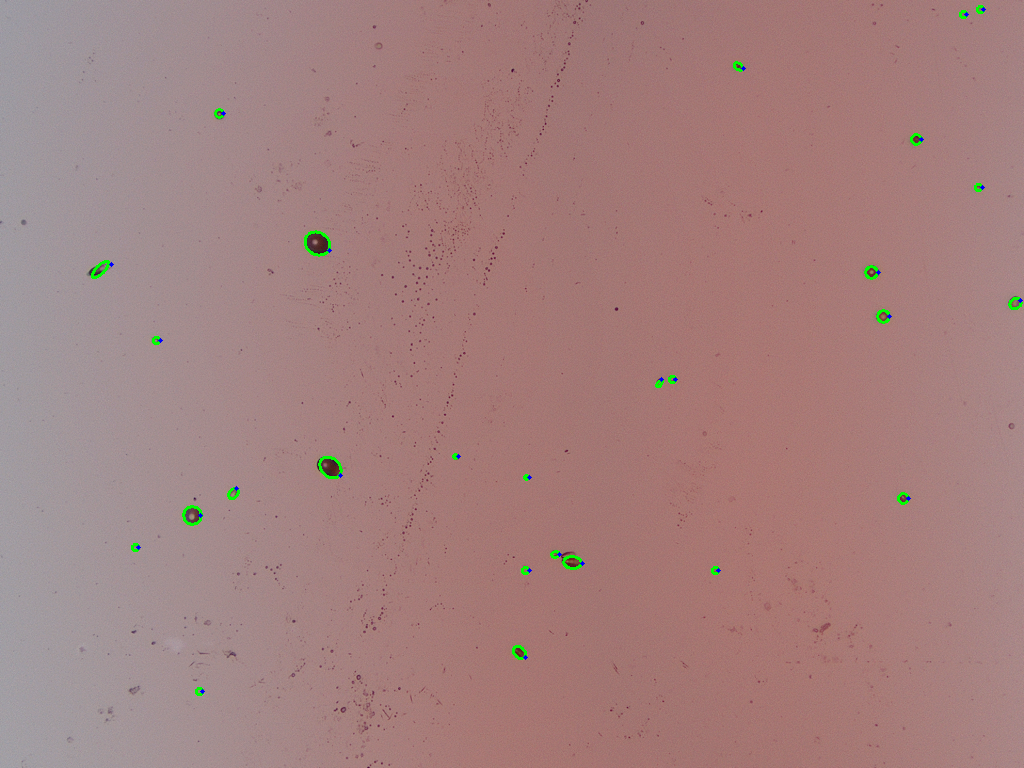circle: (865, 265, 878, 278), (877, 310, 889, 322), (898, 492, 909, 503), (911, 134, 921, 144), (215, 109, 223, 118), (152, 336, 160, 344), (974, 183, 982, 191), (522, 566, 529, 573), (668, 375, 675, 382), (976, 6, 983, 13), (132, 544, 138, 550), (452, 453, 458, 459), (196, 688, 202, 694), (712, 567, 718, 573), (960, 11, 966, 17), (524, 474, 529, 480)
ellipse: (304, 231, 330, 255), (317, 457, 342, 477), (183, 505, 200, 525), (89, 263, 112, 275), (562, 556, 582, 568), (512, 646, 526, 659), (1009, 296, 1021, 311), (228, 488, 238, 499), (733, 62, 744, 70), (550, 550, 559, 558), (656, 378, 662, 388)
